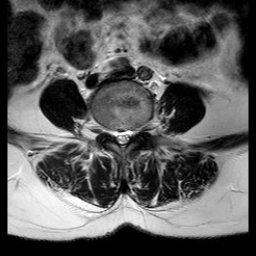CCS_severe_stenosis: (118, 119, 125, 155)
LFS_stenosis: (134, 116, 142, 141)
LLS_normal: (125, 119, 134, 147)
RFS_stenosis: (103, 116, 111, 144)
RLS_stenosis: (111, 119, 118, 148)
